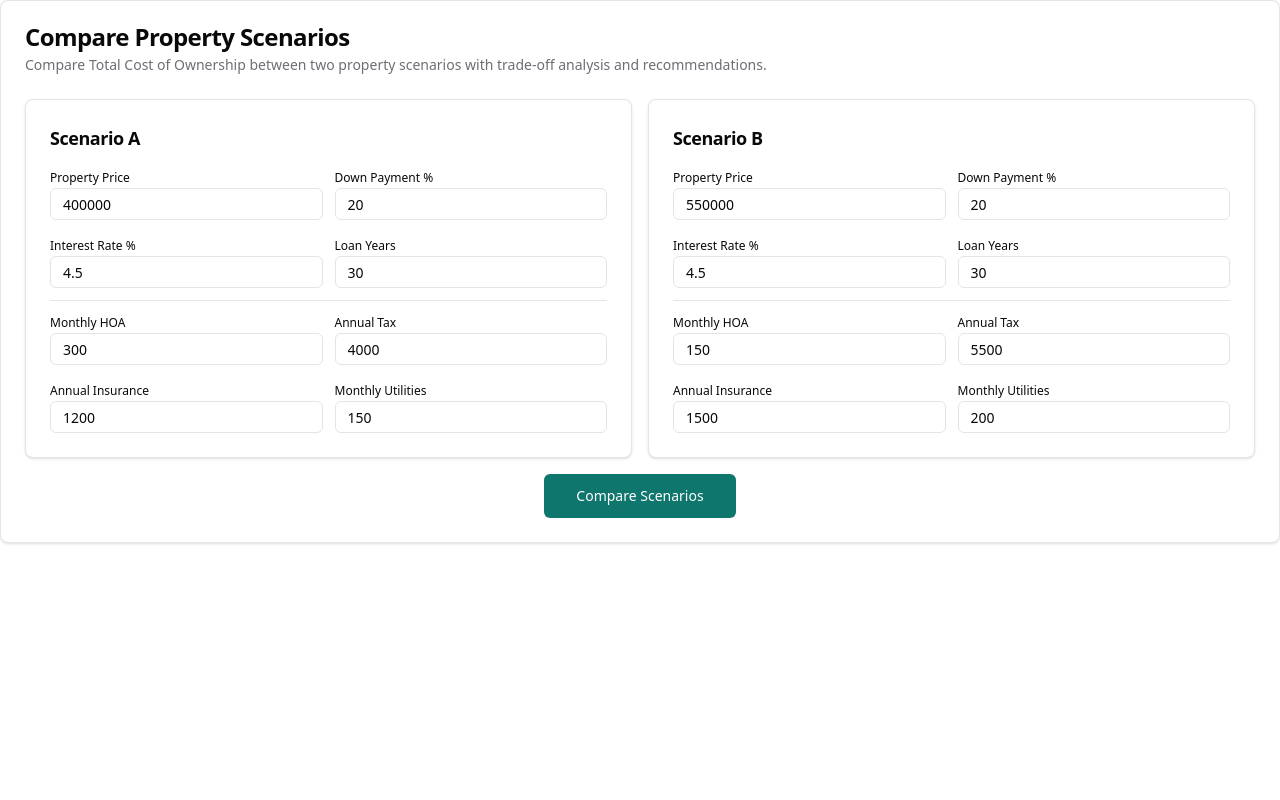
TCOComparison › shows the projection chart for the first scenario
The width and height of the screenshot is (1280, 800).
Click the button "Compare Scenarios": coordinates (640, 496) [544,474,736,518]
(page scrolled)
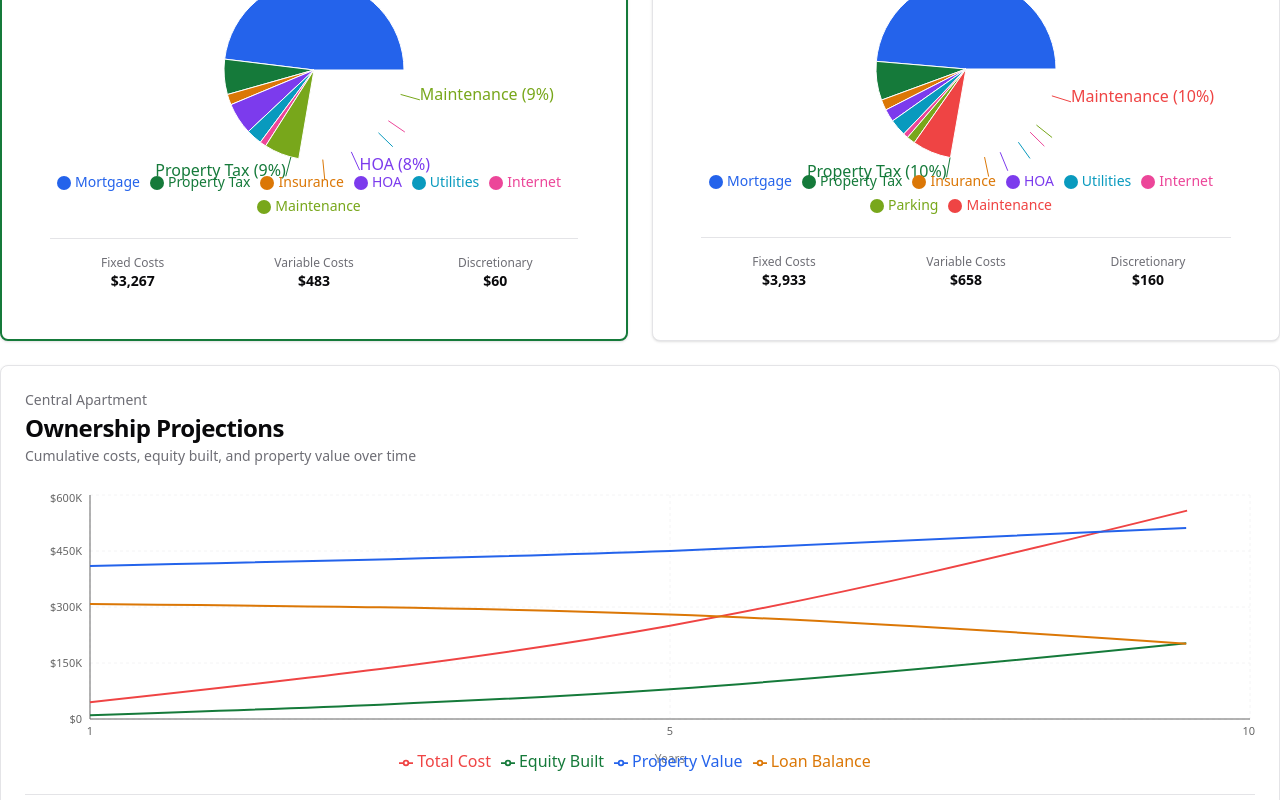
Now the text "Ownership Projections" is shown, box [25,411,284,444]
Now the text "Central Apartment" is shown, box [25,390,147,409]
